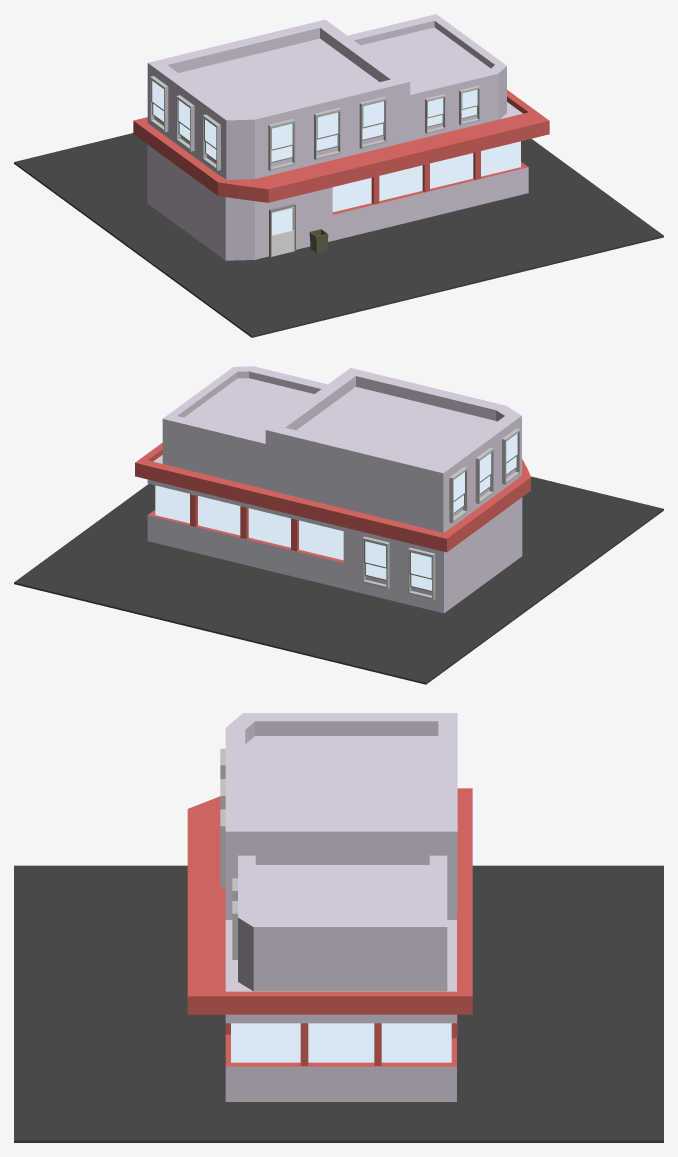
File: gedung7.glb
3 views of the same model, one above another, from view 1: azimuth 30°, elevation 25°; view 2: azimuth 150°, elevation 25°; view 3: azimuth 270°, elevation 25° (orthographic). The views are drawn at different scales.
Parts seen in each view (by area): view 1: Plane.006, Cube, Plane, Plane.001, Cube.002, Plane.002, Plane.003, Plane.007, Plane.005; view 2: Plane.006, Cube, Plane, Cube.002, Plane.001, Plane.003, Plane.004; view 3: Plane.006, Cube, Cube.002, Plane, Plane.001, Plane.002.
Part boxes in pixels (box(x1,y1,x2,y2)): Plane.006: box(14, 133, 663, 337); Cube: box(147, 19, 410, 179); Plane: box(147, 102, 528, 260); Plane.001: box(133, 90, 549, 202); Cube.002: box(348, 14, 506, 140); Plane.002: box(268, 96, 386, 171); Plane.003: box(150, 76, 220, 170); Plane.007: box(425, 86, 479, 133); Plane.005: box(269, 203, 295, 257); Plane.006: box(14, 476, 663, 684); Cube: box(265, 368, 521, 532); Plane: box(147, 455, 522, 613); Cube.002: box(162, 366, 327, 488); Plane.001: box(135, 443, 530, 552); Plane.003: box(449, 428, 520, 523); Plane.004: box(362, 536, 435, 599); Plane.006: box(14, 865, 663, 1142); Cube: box(225, 713, 457, 919); Cube.002: box(238, 855, 447, 991); Plane: box(225, 920, 457, 1101); Plane.001: box(187, 788, 472, 1014); Plane.002: box(220, 748, 225, 887).
Size of the model in its own units: 15.41 by 5.07 by 15.41.
